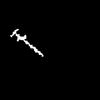double_crochet: (11, 29, 42, 55)
